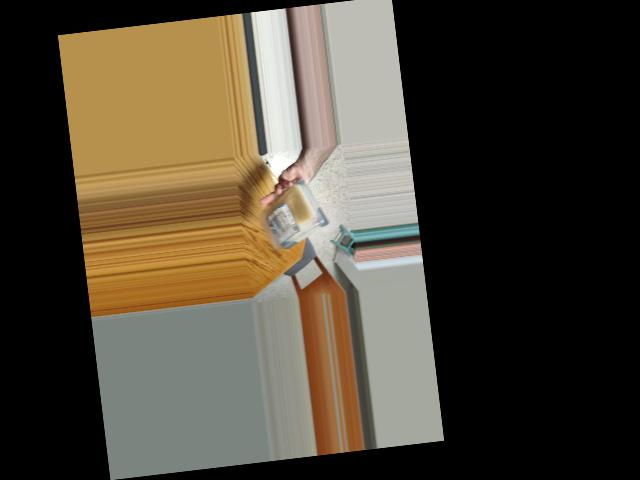cheese: (261, 192, 330, 251)
